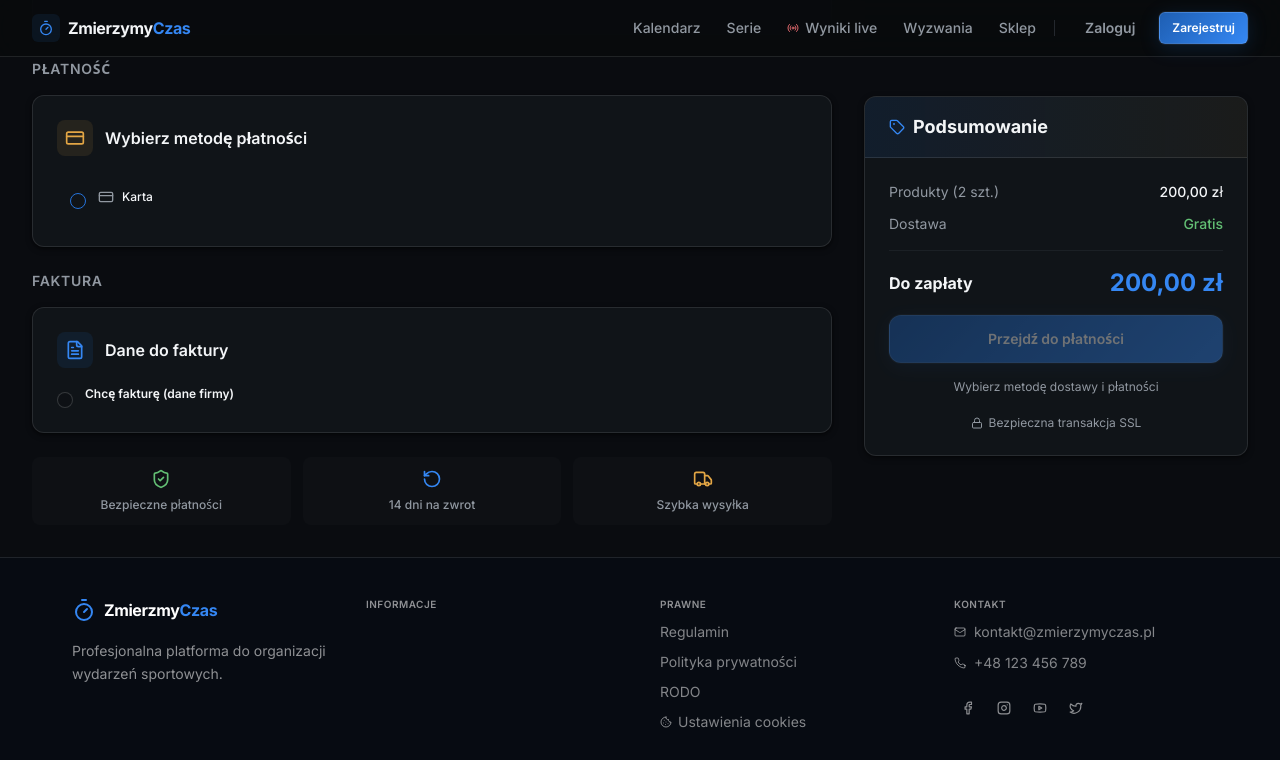
it: CartPage checkout › invoice data › shows a visible, accessible error for an empty required invoice field once touched
(page scrolled)
Click the checkbox named "Chcę fakturę (dane firmy)". click: (65, 400)
box: [57,392,73,408]
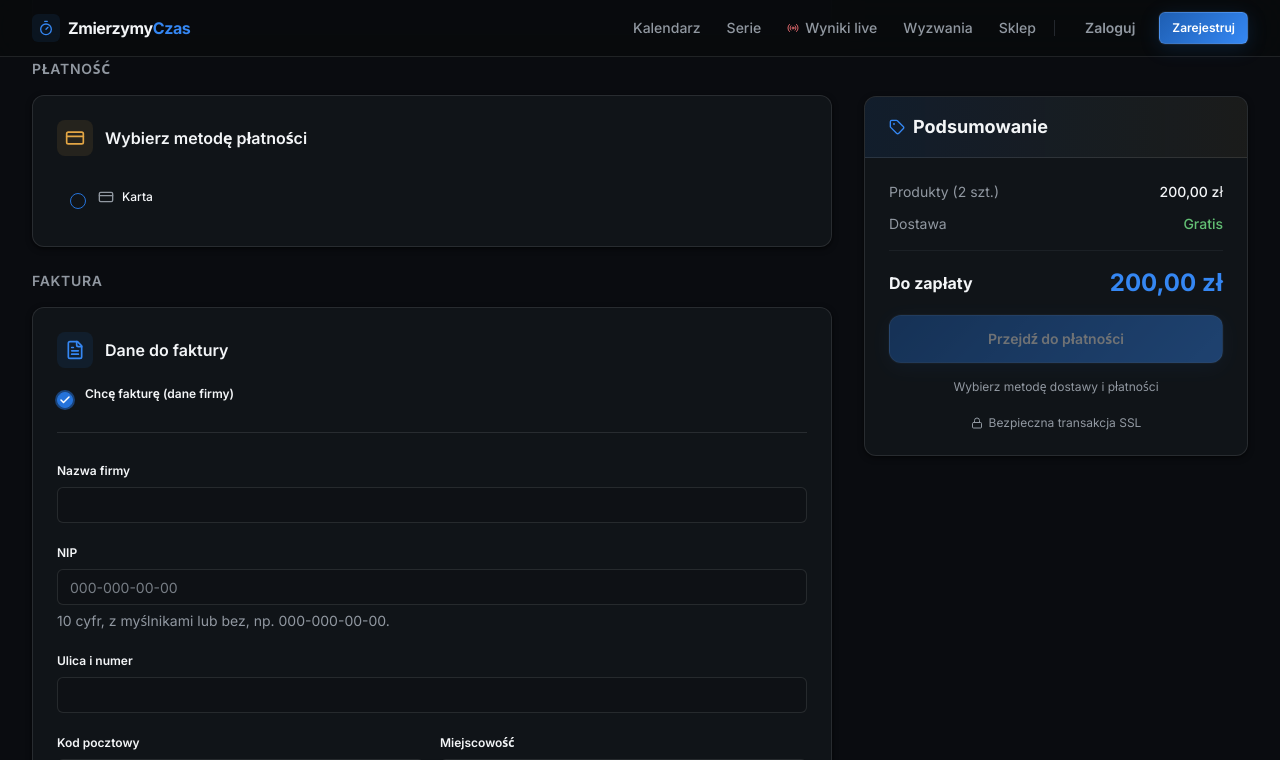
expect the text "Podaj nazwę firmy." is not shown: met
Click the field labelled "Nazwa firmy". click: (432, 505)
box: [57,487,807,523]
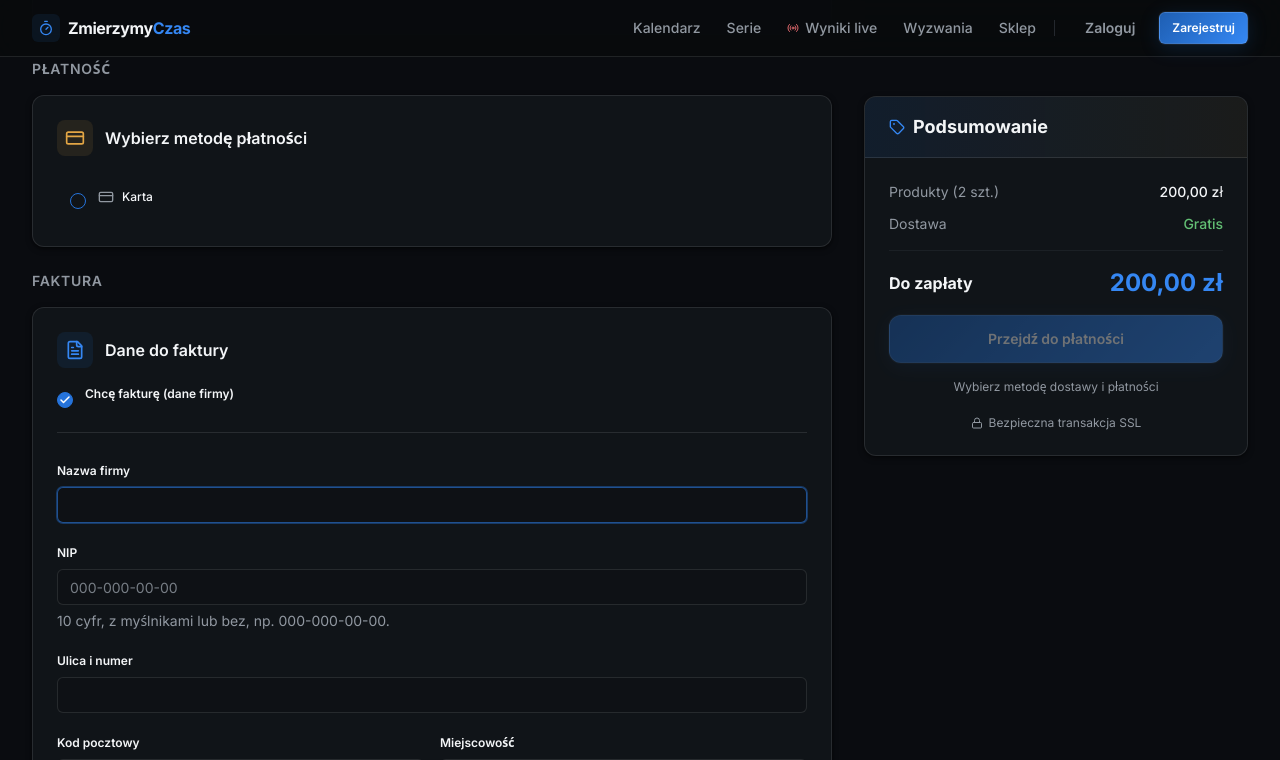
Press Tab
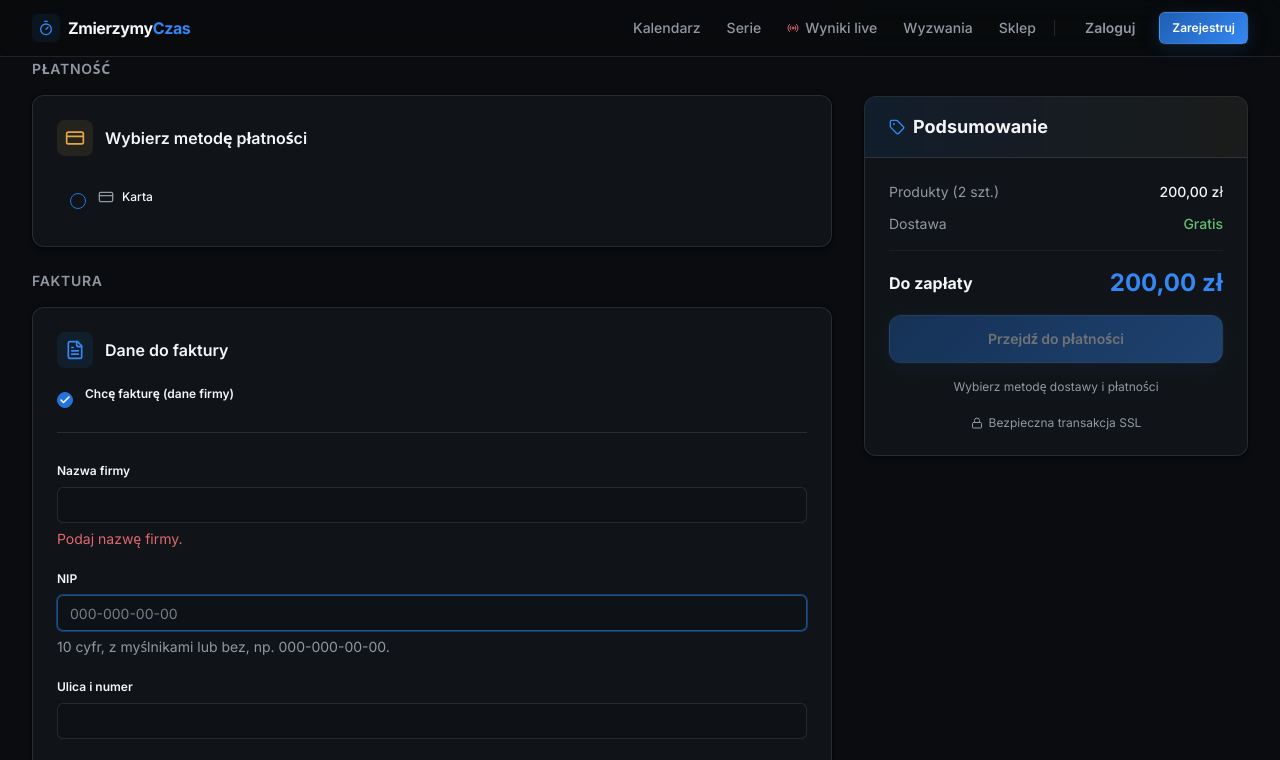
expect the text "Podaj nazwę firmy." is shown: met, box [57,530,183,547]
